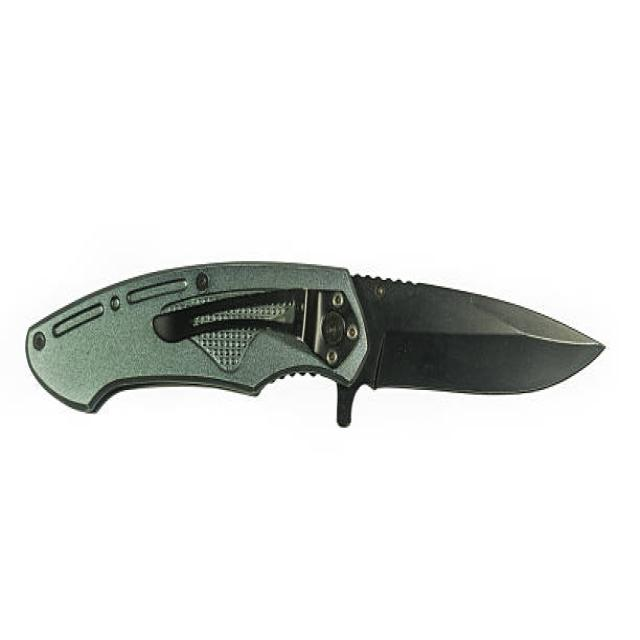knife: (19, 249, 614, 455)
